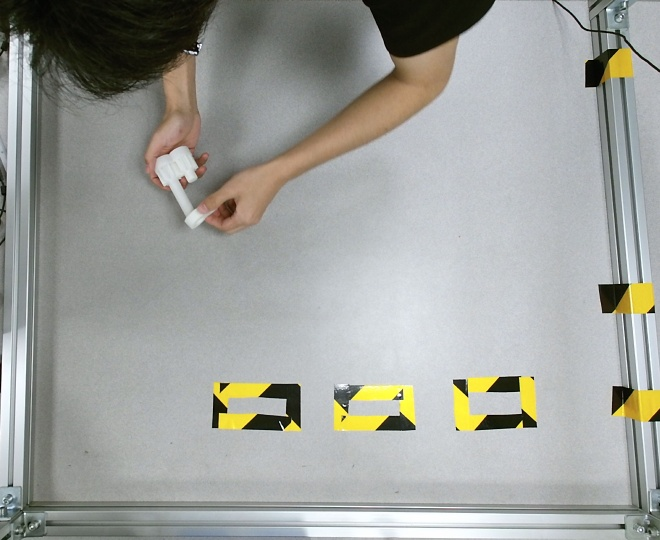stage_3: (156, 145, 198, 217)
